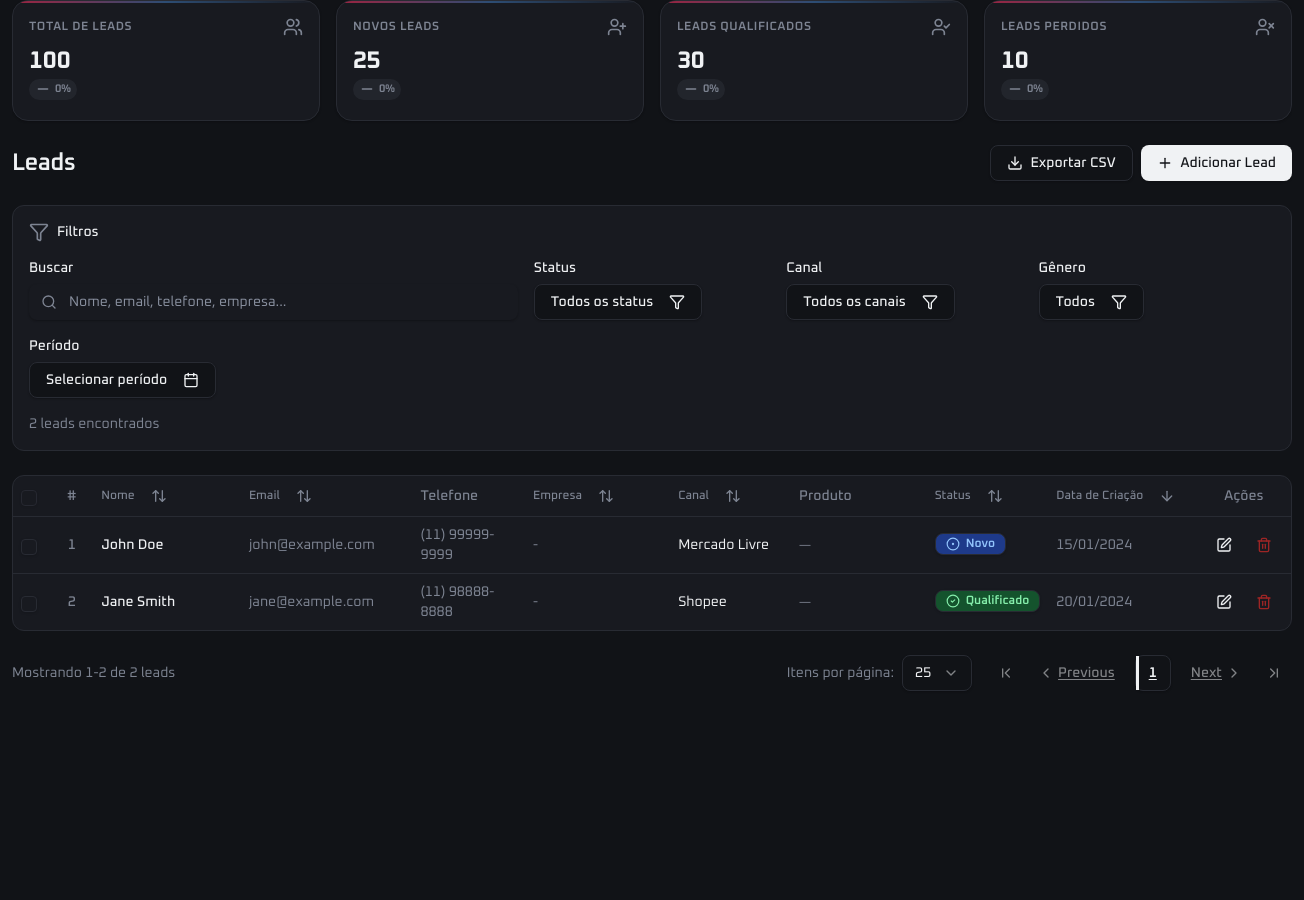
Filter Integration Tests › Filter Counter › should display correct filter count
Expected: the text "1 filtro" is not shown
Expected: the text "2 filtros" is not shown
# Apply one filter
Click the button with aria-label "Filtrar por status": (618, 302) [534,284,702,320]
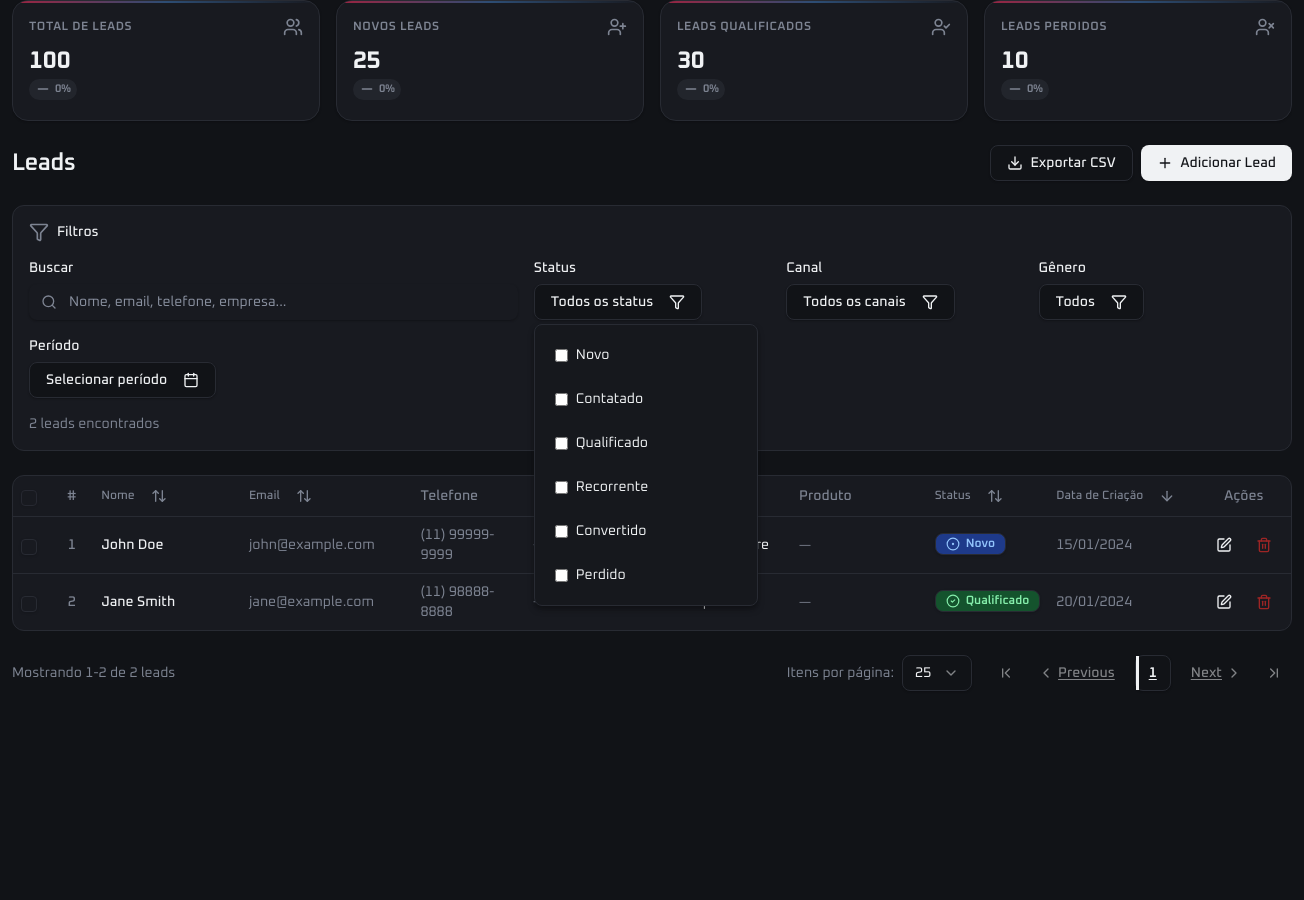
Click the checkbox labelled "Novo": (561, 355) [555,349,568,362]
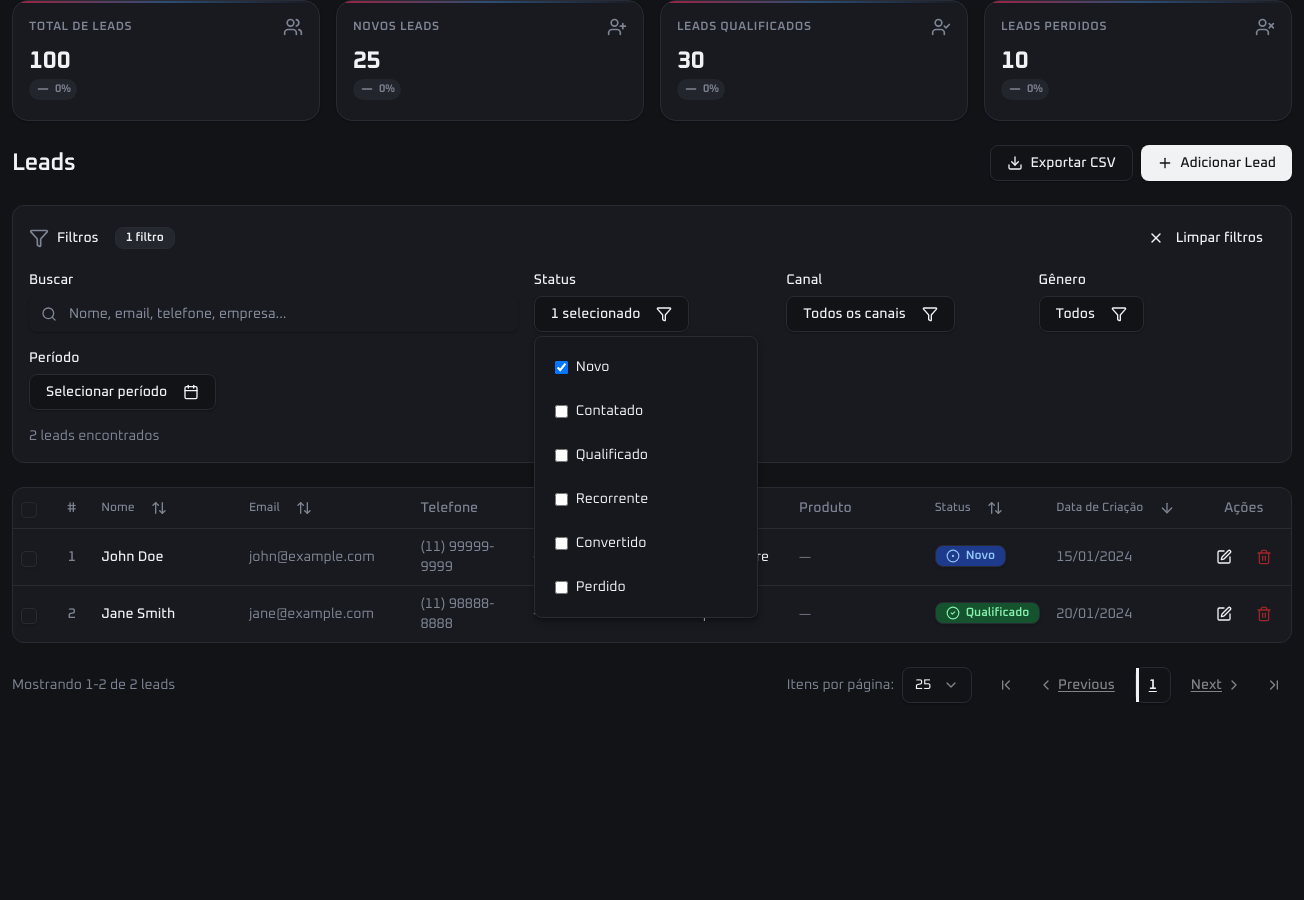
Now the text "1 filtro" is shown, box [115,227,175,249]
# Apply second filter
Click the button with aria-label "Filtrar por canal": (870, 314) [786,296,955,332]
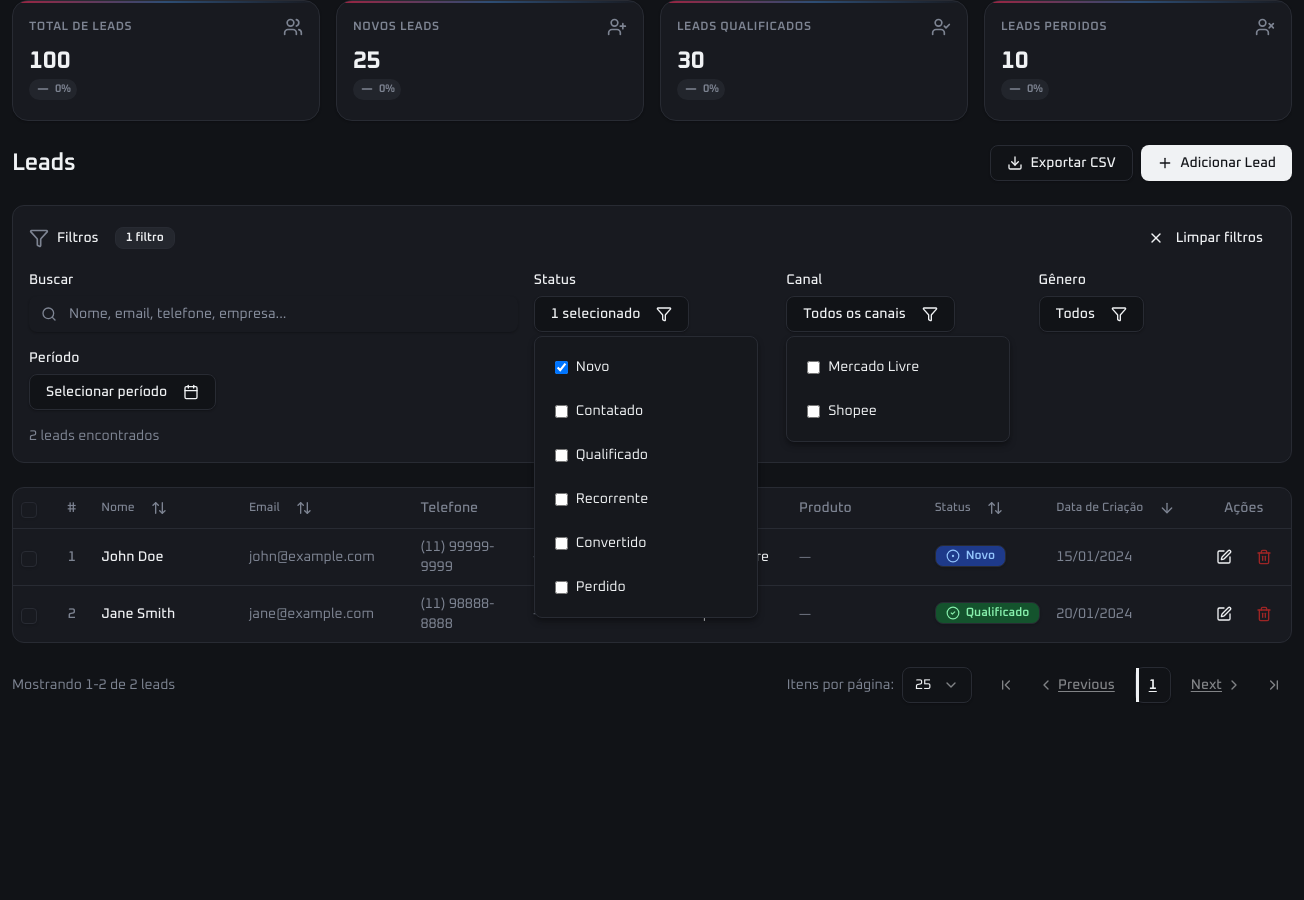
Click the checkbox labelled "Mercado Livre": (814, 367) [807,361,820,374]
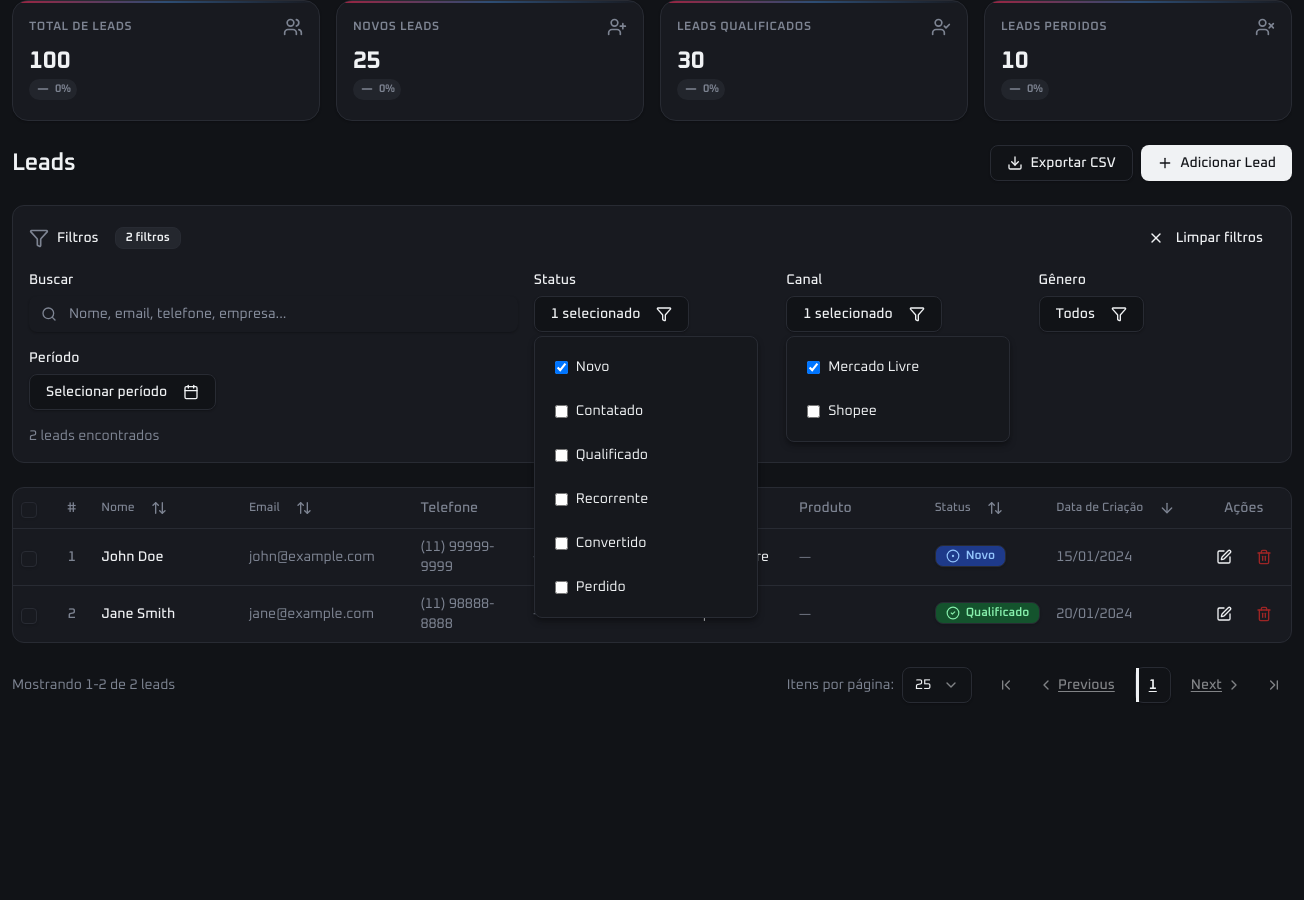
Now the text "2 filtros" is shown, box [115,227,181,249]
